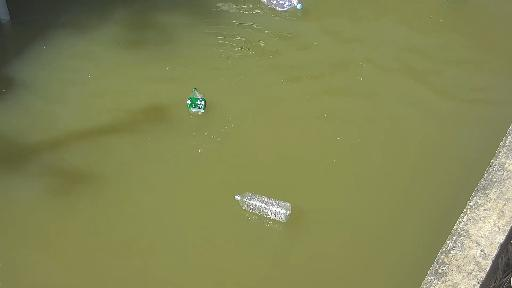plastic: (223, 185, 293, 235), (174, 88, 214, 118), (259, 0, 310, 20)
